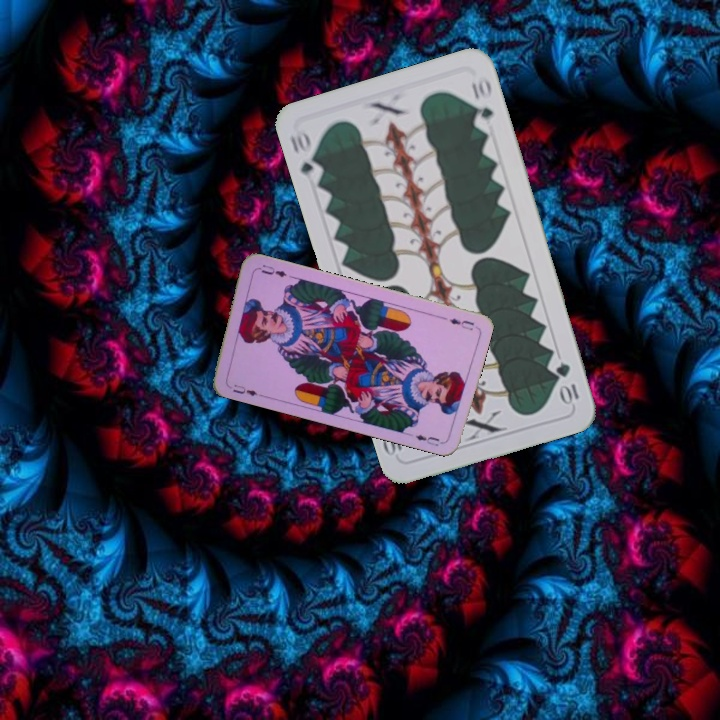EU: (224, 380, 264, 399), (445, 314, 477, 333)
G10: (286, 125, 326, 182), (552, 358, 582, 407)
